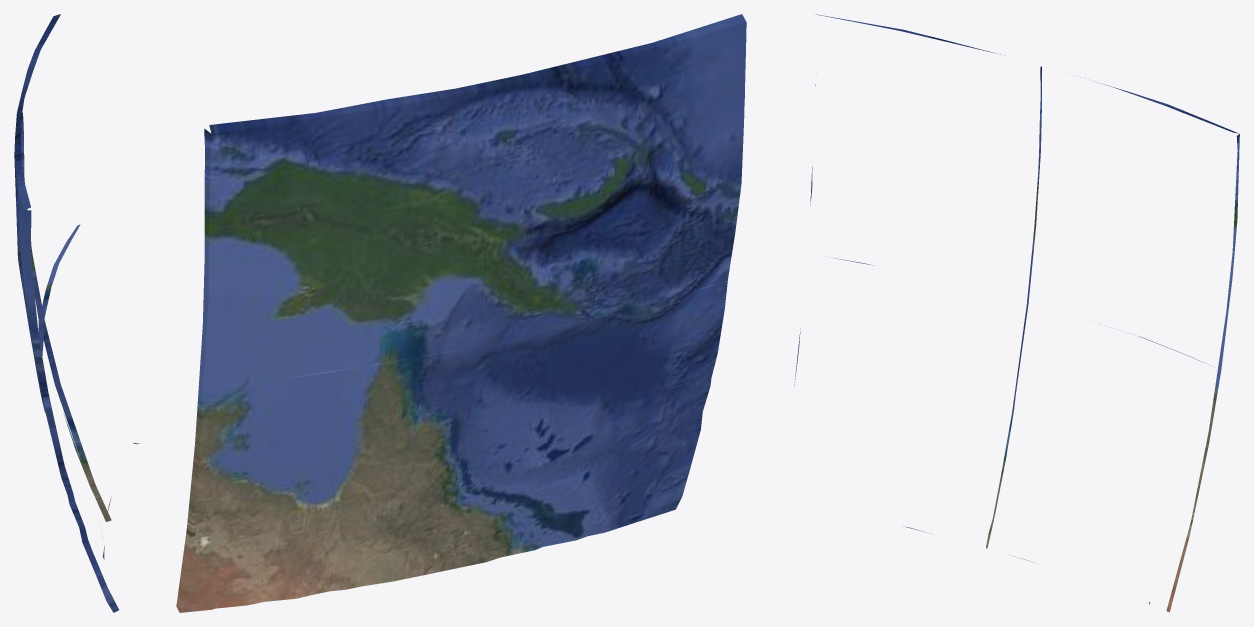
3 views of the same model, side by side, from view 1: azimuth 30°, elevation 25°; view 2: azimuth 150°, elevation 25°; view 3: azimuth 270°, elevation 25° (orthographic). The views are drawn at different scales.
Bounding box in the file's own units: 1762607 × 2456596 × 2283257.
1 material, 1 textured.
